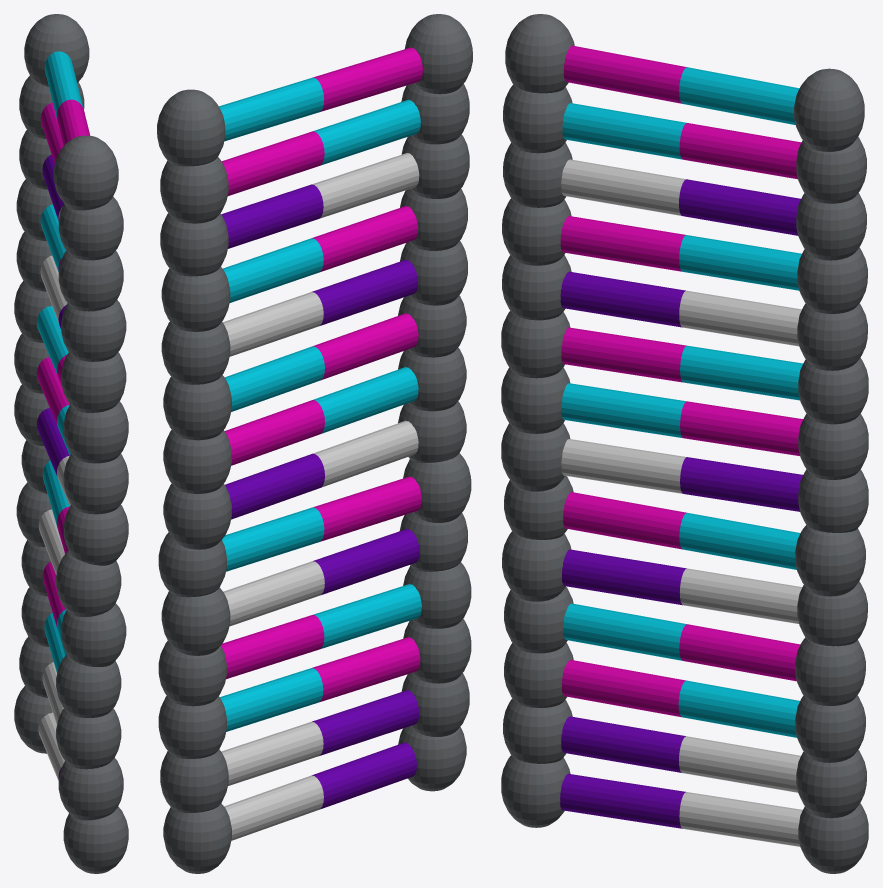
Rendered from DNAflatmutation2.glb.
3 views of the same model, side by side, from view 1: azimuth 30°, elevation 25°; view 2: azimuth 150°, elevation 25°; view 3: azimuth 270°, elevation 25° (orthographic). The views are drawn at different scales.
Visible parts, largest first — view 1: Mesh_Mesh_head_geo.001_lambert2SG.001; view 2: Mesh_Mesh_head_geo.001_lambert2SG.001; view 3: Mesh_Mesh_head_geo.001_lambert2SG.001.
Boxes of the visible parts, x1,y1,x2,y2 form: Mesh_Mesh_head_geo.001_lambert2SG.001: (14,14,128,873); Mesh_Mesh_head_geo.001_lambert2SG.001: (157,14,472,873); Mesh_Mesh_head_geo.001_lambert2SG.001: (501,14,868,873).
Size of the model in its own units: 39.2 by 173 by 71.79.
